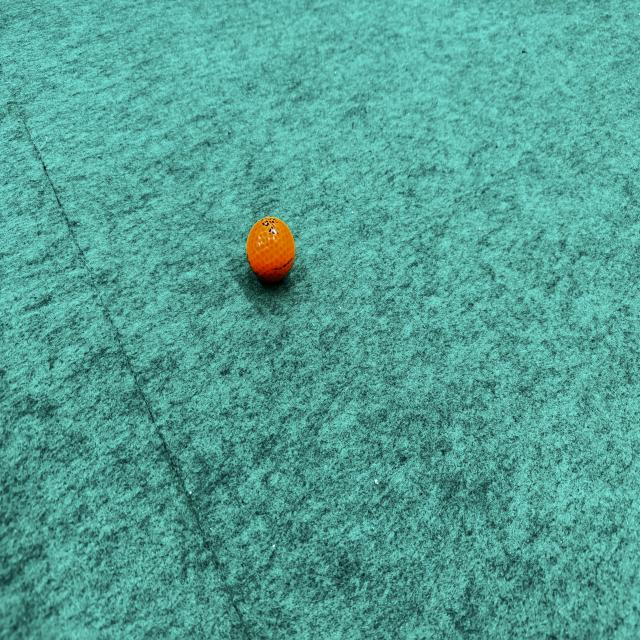ball: (245, 213, 298, 284)
